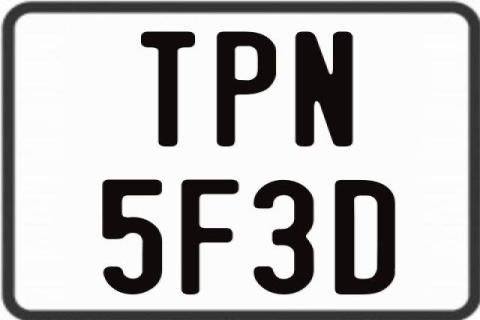0: (100, 180, 165, 298), (254, 178, 315, 294)
D: (332, 178, 393, 294)
F: (178, 180, 240, 300)
N: (294, 32, 356, 150)
P: (215, 32, 278, 150)
T: (139, 32, 197, 150)
